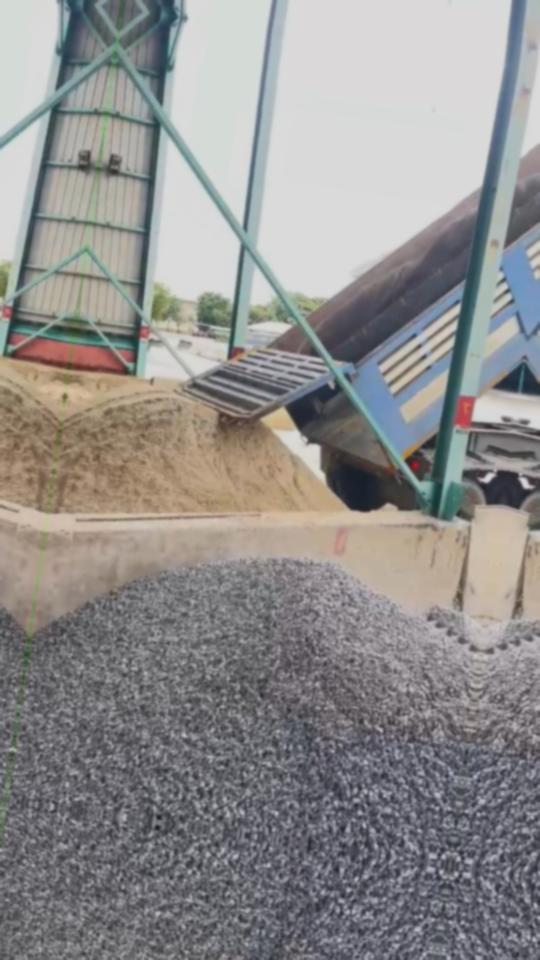gravel: (9, 558, 477, 862), (425, 606, 485, 650)
sand: (51, 390, 343, 513), (64, 371, 175, 415), (263, 409, 291, 429)
